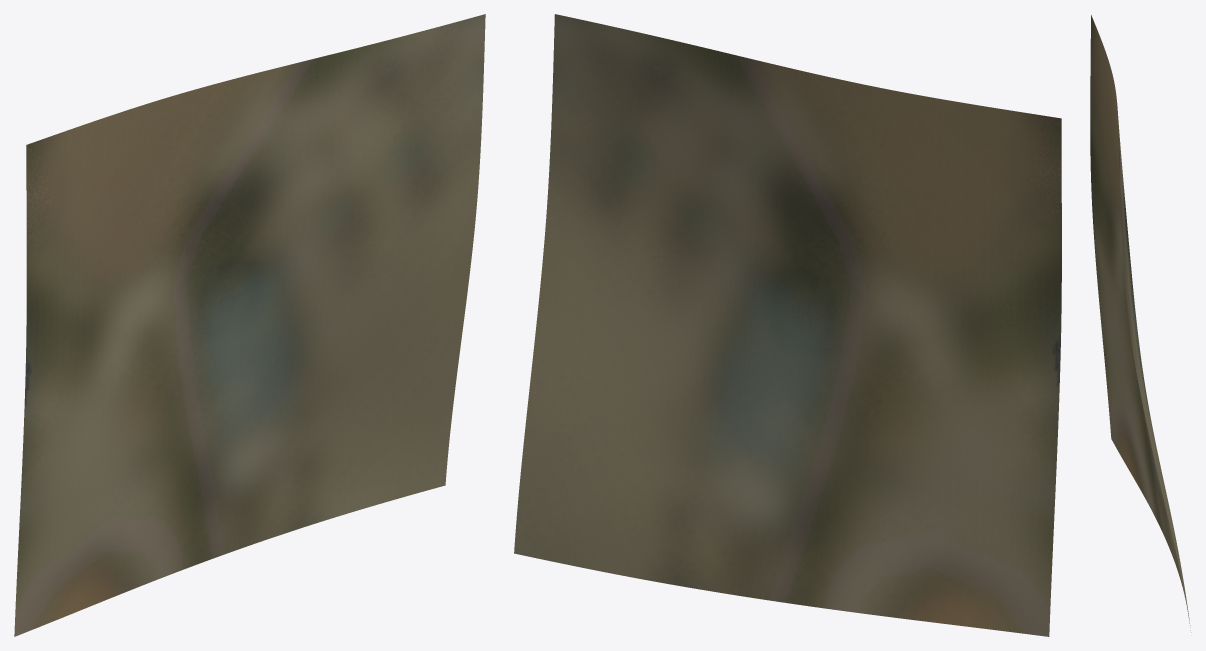
File: ground_core_01_02.obj
The picture shows the model from 3 angles, left to right: view 1: azimuth 30°, elevation 25°; view 2: azimuth 150°, elevation 25°; view 3: azimuth 270°, elevation 25°; orthographic projection. The views are drawn at different scales.
Parts seen in each view (by area): view 1: ground_core_01_02; view 2: ground_core_01_02; view 3: ground_core_01_02.
Part boxes in pixels (x1=…): ground_core_01_02: x1=14, y1=14, x2=485, y2=636; ground_core_01_02: x1=514, y1=14, x2=1061, y2=636; ground_core_01_02: x1=1090, y1=15, x2=1191, y2=632.
Bounding box in the file's own units: 50 × 50 × 10.83.
Materials: 1 (1 with a texture image).
